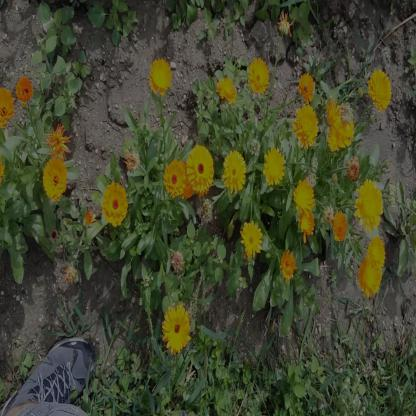marigold: (162, 303, 189, 353), (186, 145, 214, 191), (356, 182, 380, 229), (103, 181, 127, 225), (358, 250, 380, 298), (295, 105, 318, 148), (42, 157, 66, 198), (333, 106, 354, 152), (223, 150, 247, 188), (164, 158, 188, 196), (176, 157, 197, 200), (263, 144, 285, 185), (294, 178, 314, 222), (368, 70, 391, 108), (249, 57, 271, 94), (150, 58, 172, 93), (367, 232, 386, 271), (242, 221, 262, 256), (0, 87, 15, 129), (332, 209, 349, 243), (217, 74, 236, 102), (325, 96, 342, 127), (15, 75, 33, 104), (326, 120, 342, 152), (280, 252, 297, 281), (298, 71, 315, 100)
